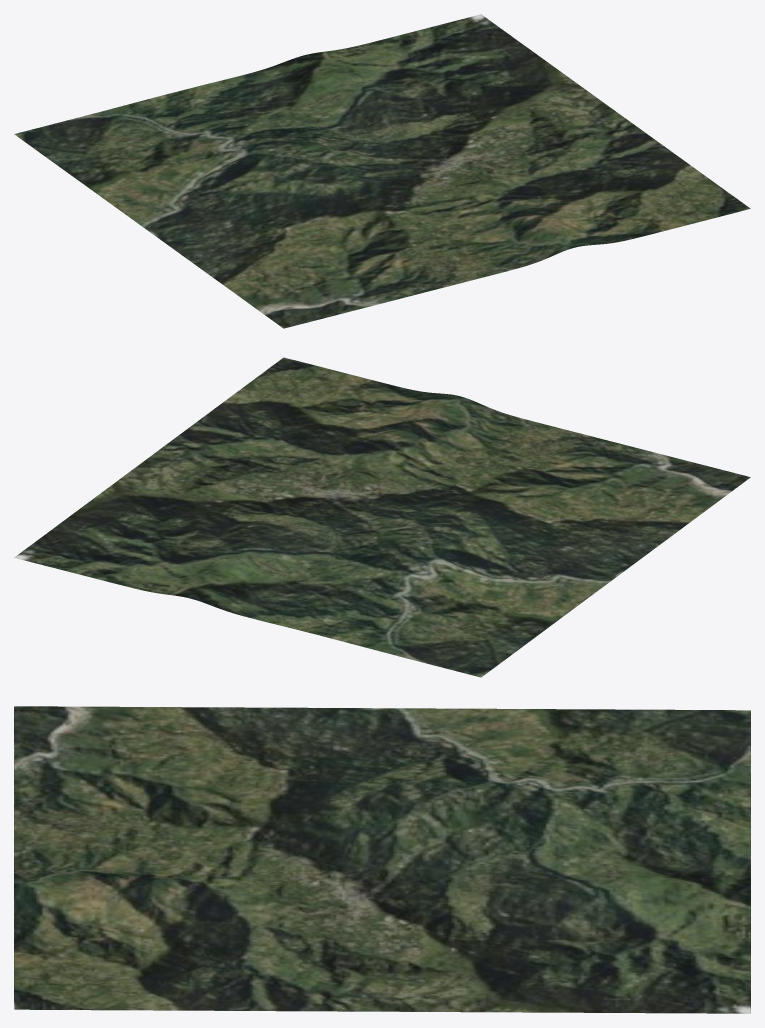
The picture shows the model from 3 angles, top to bottom: view 1: azimuth 30°, elevation 25°; view 2: azimuth 150°, elevation 25°; view 3: azimuth 270°, elevation 25°; orthographic projection. The views are drawn at different scales.
Parts seen in each view (by area): view 1: geometry_0; view 2: geometry_0; view 3: geometry_0.
Boxes of the visible parts, x1,y1,x2,y2 form: geometry_0: (14,14,750,328); geometry_0: (14,357,750,677); geometry_0: (14,706,750,1013).
Bounding box in the file's own units: 10000 × 386 × 10000.
Materials: 1 (1 with a texture image).
